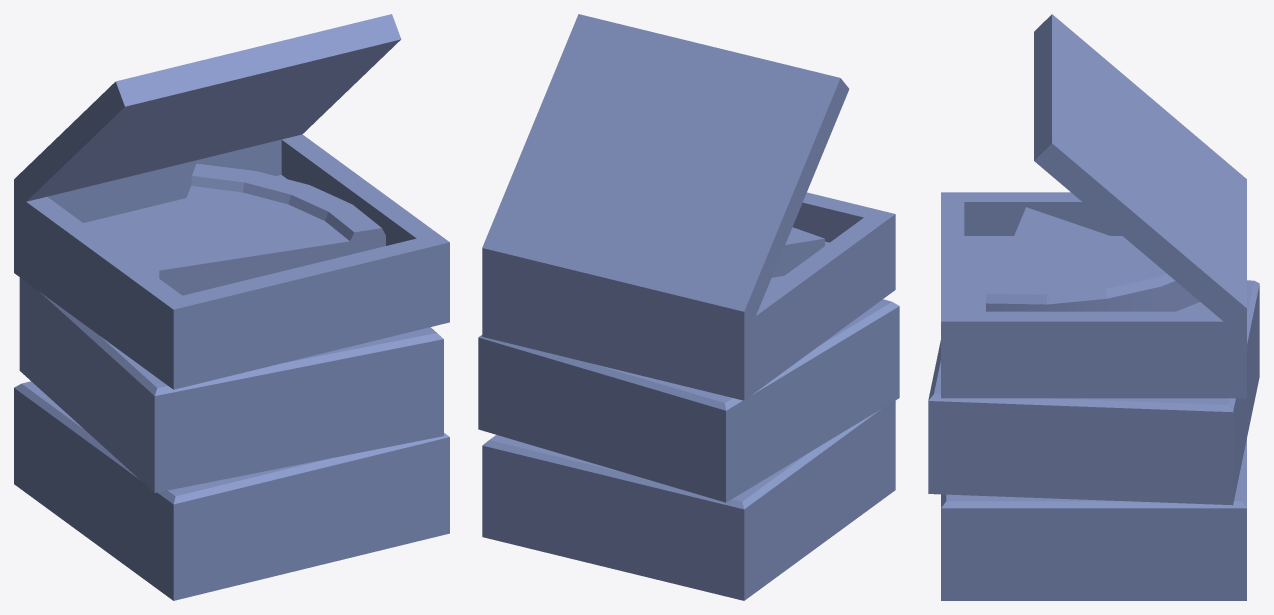
Rendered from pizza_pizza.glb.
3 views of the same model, side by side, from view 1: azimuth 30°, elevation 25°; view 2: azimuth 150°, elevation 25°; view 3: azimuth 270°, elevation 25° (orthographic). The views are drawn at different scales.
Visible parts, largest first — view 1: pizza; view 2: pizza; view 3: pizza.
Boxes of the visible parts, x1,y1,x2,y2 form: pizza: (14,14,449,600); pizza: (478,14,899,600); pizza: (928,14,1259,600).
Bounding box in the file's own units: 0.975 × 1.48 × 0.975.
